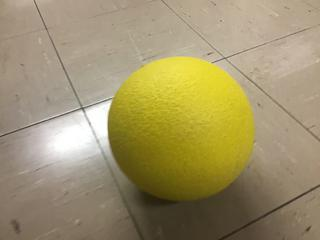power_cell: (99, 52, 261, 202)
